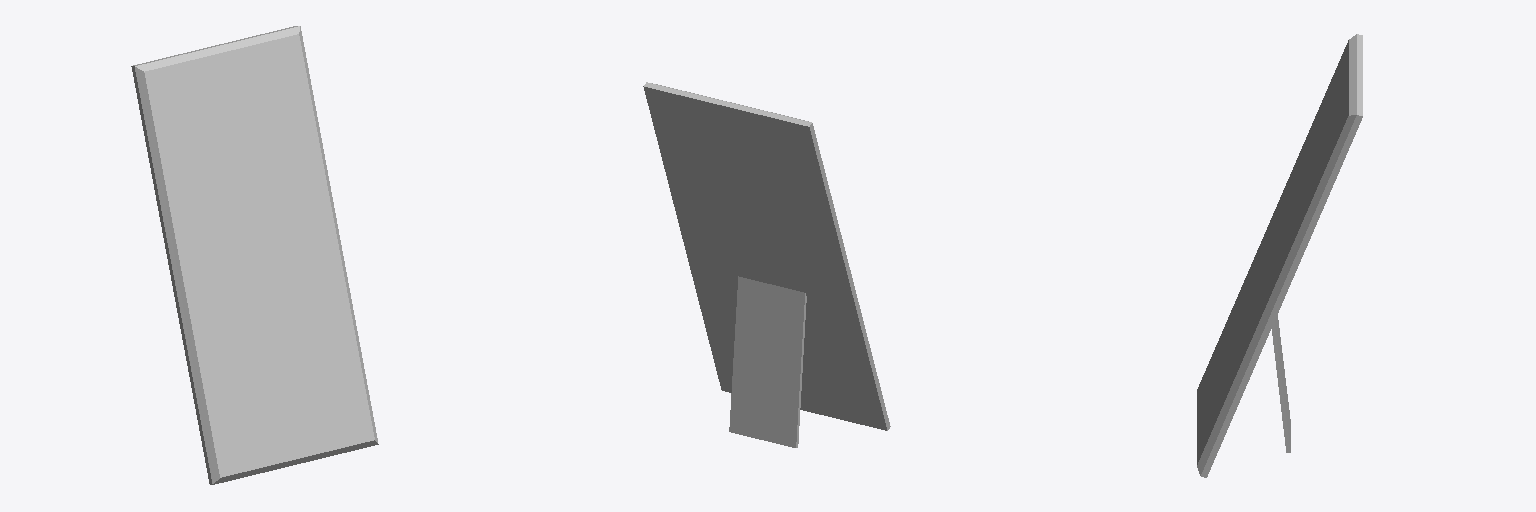
The model's file is Mirror again.obj.
3 renders of one model, left to right at view 1: azimuth 30°, elevation 25°; view 2: azimuth 150°, elevation 25°; view 3: azimuth 270°, elevation 25°, orthographic.
Visible parts, largest first — view 1: Mirror; view 2: Mirror, Mirror pCube2; view 3: Mirror, Mirror pCube2.
Part boxes in pixels (bbox=[...]): Mirror: bbox=[131, 26, 378, 484]; Mirror: bbox=[643, 82, 890, 430]; Mirror pCube2: bbox=[729, 276, 806, 447]; Mirror: bbox=[1197, 34, 1362, 477]; Mirror pCube2: bbox=[1272, 315, 1290, 452].
Bounding box in the file's own units: 7.5 × 15.69 × 6.52.